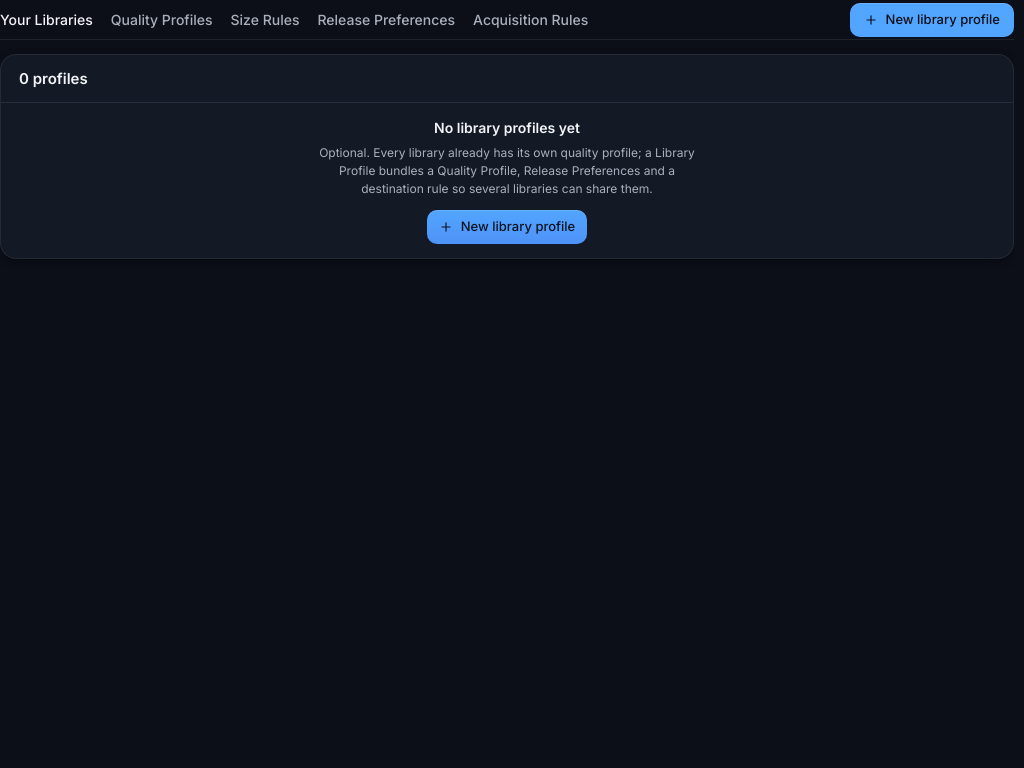
Test: a new library profile › starts empty as a movie profile, switched on, with only movie libraries, quality profiles and release preferences to pick from
Click the button "New library profile" in the row of "Acquisition Rules". click: (932, 20)
box: [850,2,1014,36]
(page scrolled)
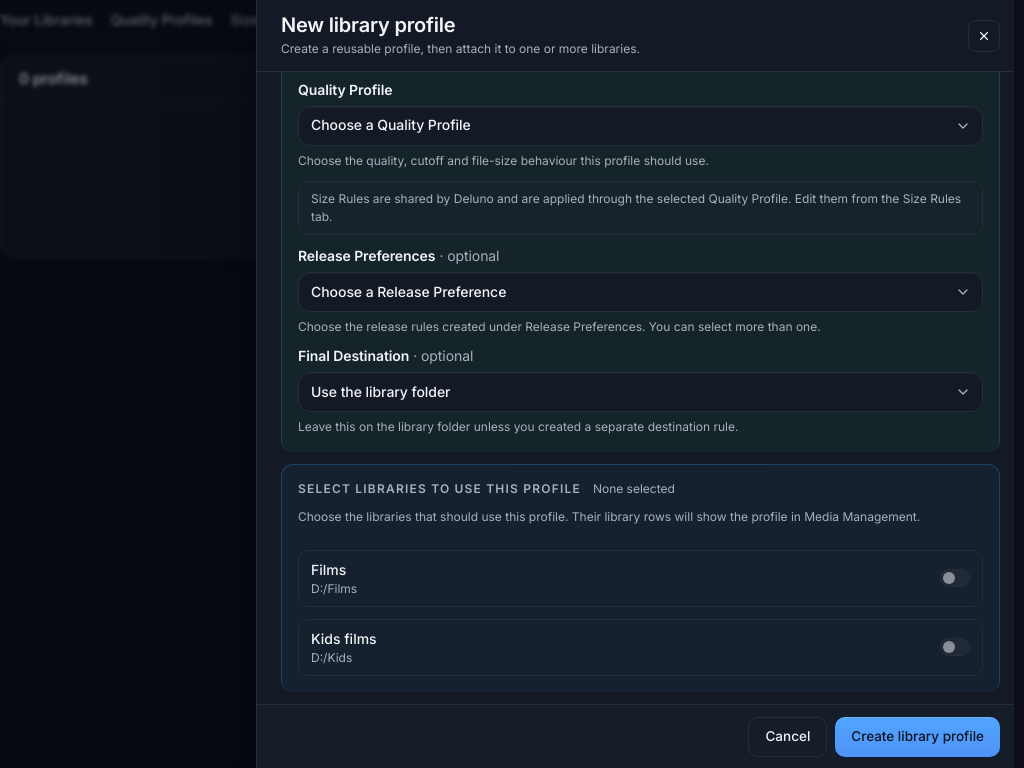
Expected: the heading "New library profile" is shown, [281,13,455,37]
Expected: the text "Films" is shown, [311,561,346,578]
Expected: the text "Kids films" is shown, [311,628,377,649]
